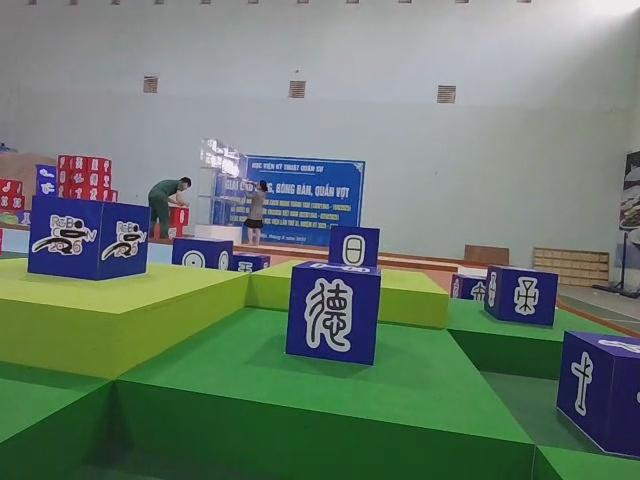R1 Blue: (27, 196, 148, 282)
R2 Fake Blue: (285, 260, 383, 367), (326, 224, 379, 270), (449, 274, 485, 301)
R2 Real Blue: (558, 331, 640, 460), (485, 265, 559, 328), (172, 237, 236, 271)
